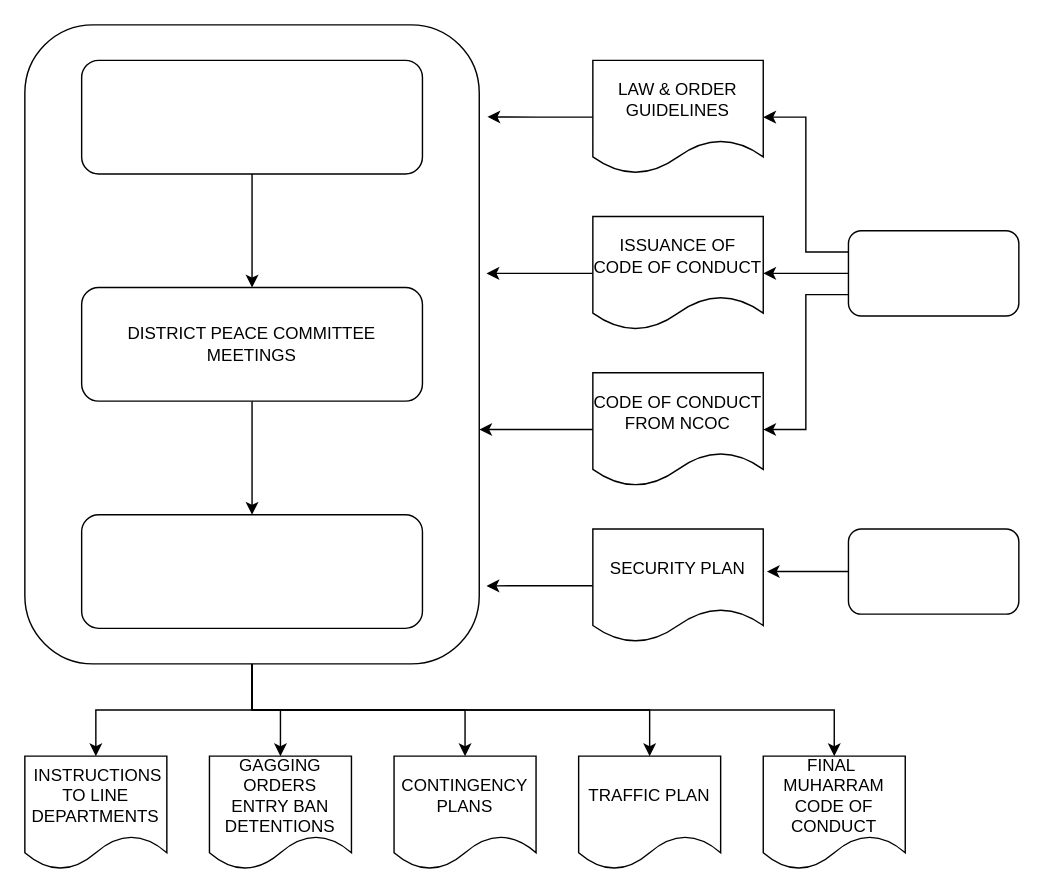
Image size: 1044x895. Some labels were removed from this diagram. The box of each missing label's shape, as (x1, y1, x2, y2) in pixels:
DISTRICT INTELLIGENCE COMMITTEE MEETING: (80, 59, 422, 174)
HOME DEPARTMENT: (847, 229, 1019, 316)
POLICE & SECURITY AGENCIES: (847, 528, 1019, 614)
SECURITY AND ALLIED ARRANGEMENTS MEETINGS: (80, 513, 422, 628)
